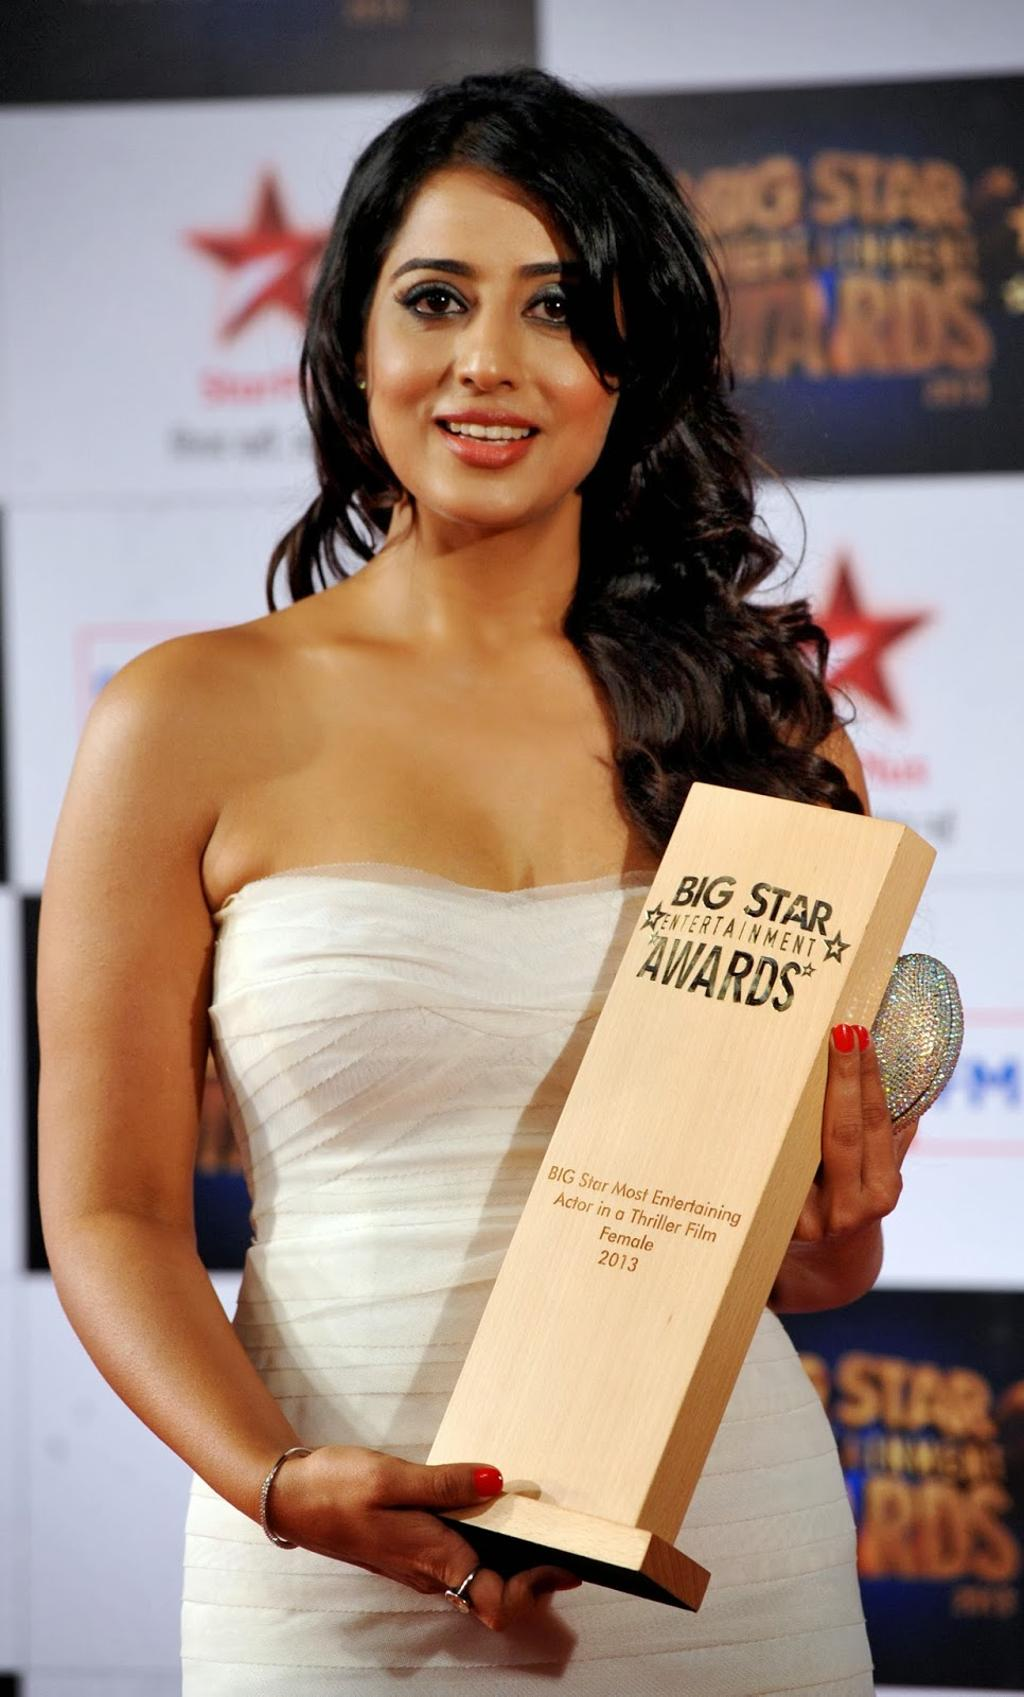face: (361, 136, 629, 517)
